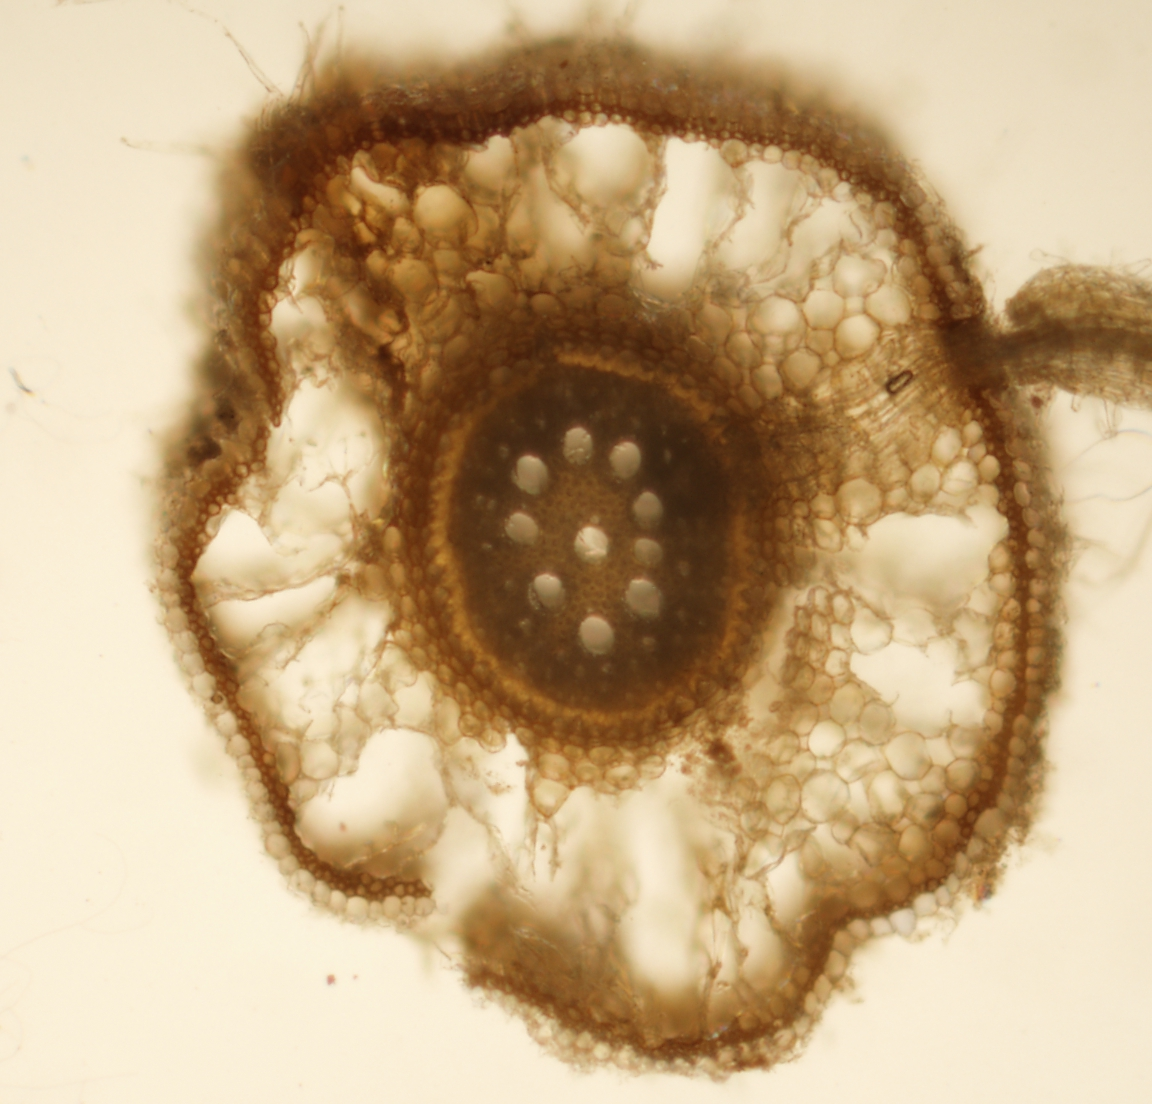lm: (527, 573, 567, 619), (622, 577, 662, 621), (510, 454, 550, 494), (579, 615, 614, 655), (562, 426, 593, 466), (609, 440, 641, 480), (632, 490, 663, 530), (505, 512, 539, 547), (633, 536, 663, 568)
